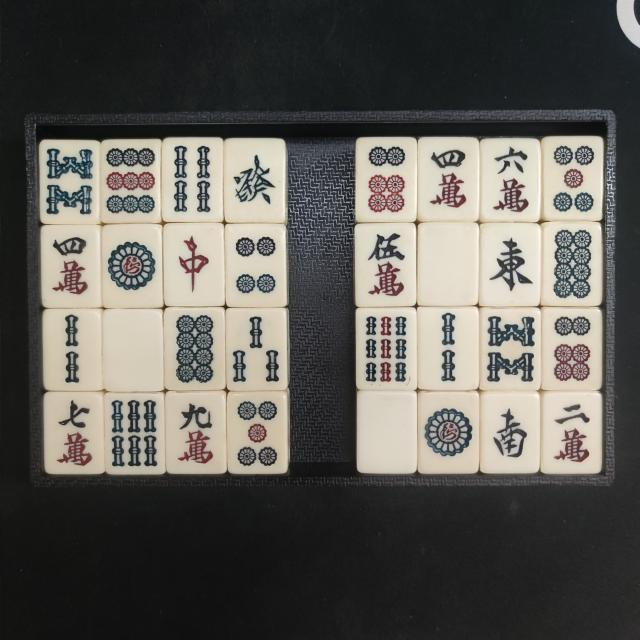hdg: (228, 144, 280, 214)
hdr: (168, 229, 219, 301)
hdw: (424, 229, 472, 298), (110, 316, 158, 384), (364, 399, 412, 466)
hwe: (486, 228, 539, 300)
hws: (484, 398, 536, 467)
sb2: (424, 310, 474, 384), (48, 312, 96, 386)
sb3: (230, 312, 282, 384)
sb4: (166, 141, 216, 216)
sb6: (110, 396, 158, 469)
sb8: (42, 143, 96, 219), (484, 312, 538, 388)
sb9: (362, 313, 409, 385)
sc2: (548, 398, 596, 468)
sc4: (230, 227, 282, 300), (46, 230, 96, 302), (425, 142, 472, 211)
sc5: (362, 228, 412, 304)
sc6: (484, 142, 534, 216)
sc7: (48, 397, 100, 469)
sc9: (170, 396, 220, 468)
sd1: (106, 229, 160, 304), (422, 396, 477, 468)
sd5: (548, 140, 598, 214), (232, 398, 282, 470)
sd6: (546, 312, 594, 384), (362, 143, 409, 215)
sd8: (169, 312, 222, 386), (548, 226, 598, 302)
sd9: (104, 142, 158, 218)
